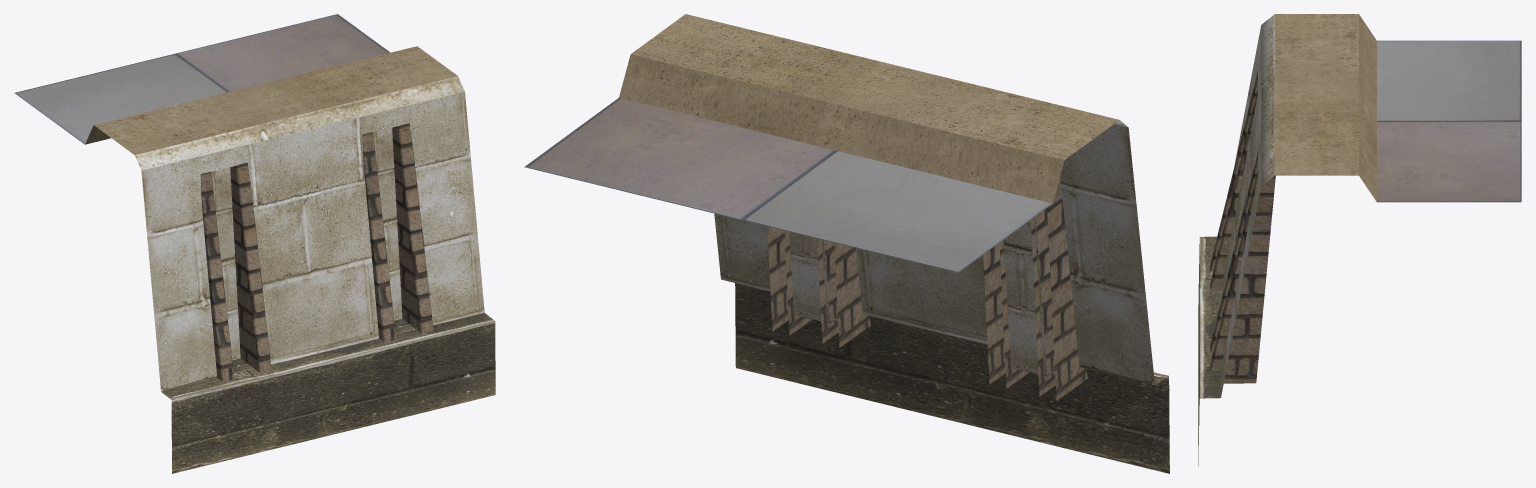
File: castle-wall-half-w-deco-1.fbx
The picture shows the model from 3 angles, left to right: view 1: azimuth 30°, elevation 25°; view 2: azimuth 150°, elevation 25°; view 3: azimuth 270°, elevation 25°; orthographic projection. The views are drawn at different scales.
Parts seen in each view (by area): view 1: castle-wall-half-w-deco-1; view 2: castle-wall-half-w-deco-1; view 3: castle-wall-half-w-deco-1.
Part boxes in pixels (left/top/right/bottom): castle-wall-half-w-deco-1: left=14, top=14, right=495, bottom=473; castle-wall-half-w-deco-1: left=524, top=14, right=1169, bottom=473; castle-wall-half-w-deco-1: left=1198, top=14, right=1521, bottom=465.
Size of the model in its own units: 200 by 172 by 169.
